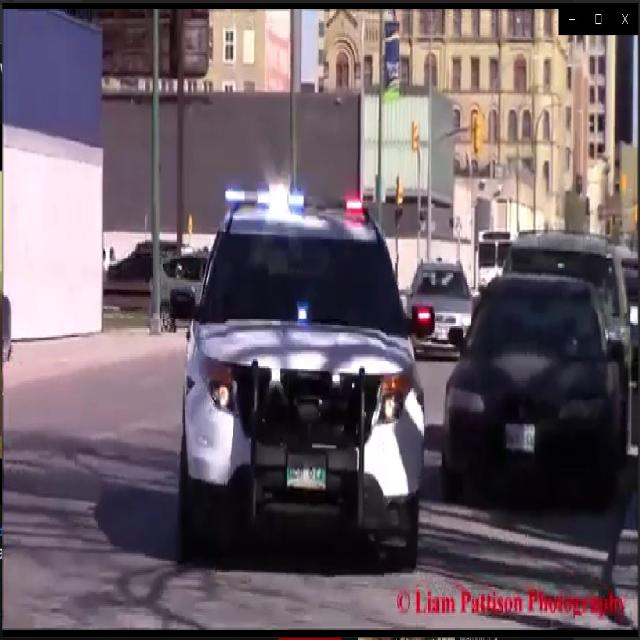emergency: (174, 168, 436, 556)
